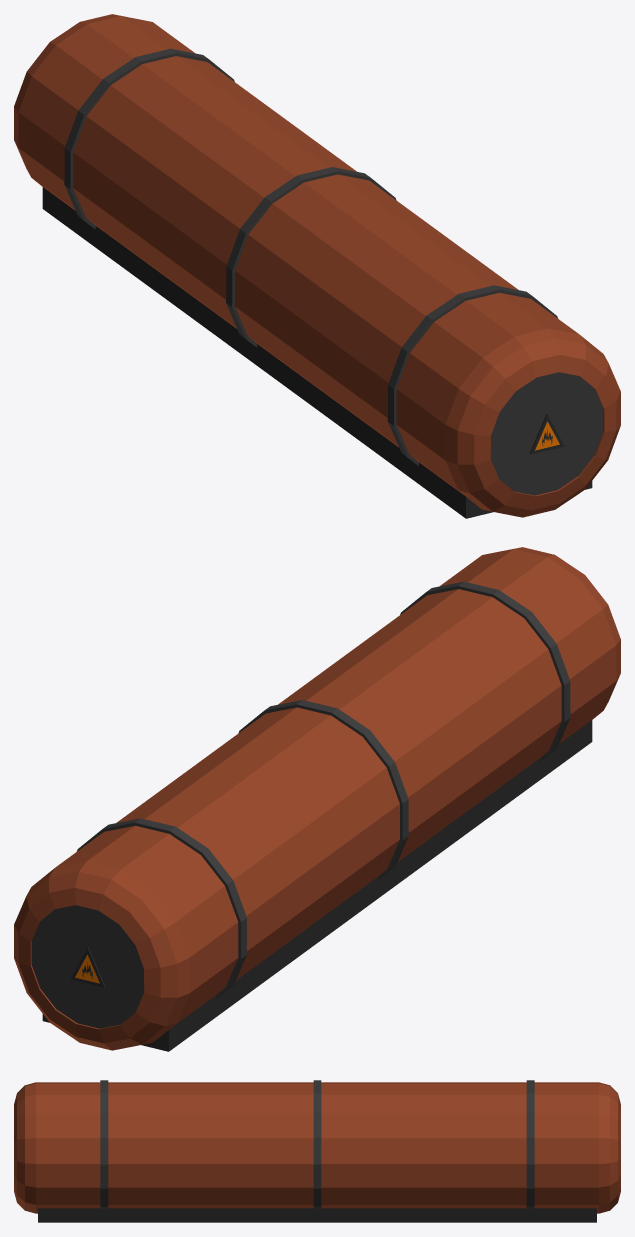
The model's file is SM_Trains_TrainPart_04.glb.
3 renders of one model, top to bottom at view 1: azimuth 30°, elevation 25°; view 2: azimuth 150°, elevation 25°; view 3: azimuth 270°, elevation 25°, orthographic. The views are drawn at different scales.
Visible parts, largest first — view 1: SM_Trains_TrainPart_04; view 2: SM_Trains_TrainPart_04; view 3: SM_Trains_TrainPart_04.
Part boxes in pixels (x1,y1,x2,y2): SM_Trains_TrainPart_04: [14, 14, 620, 518]; SM_Trains_TrainPart_04: [14, 547, 620, 1051]; SM_Trains_TrainPart_04: [14, 1080, 620, 1222].
Size of the model in its own units: 3.62 by 3.62 by 16.31.
Materials: 1 (1 with a texture image).
